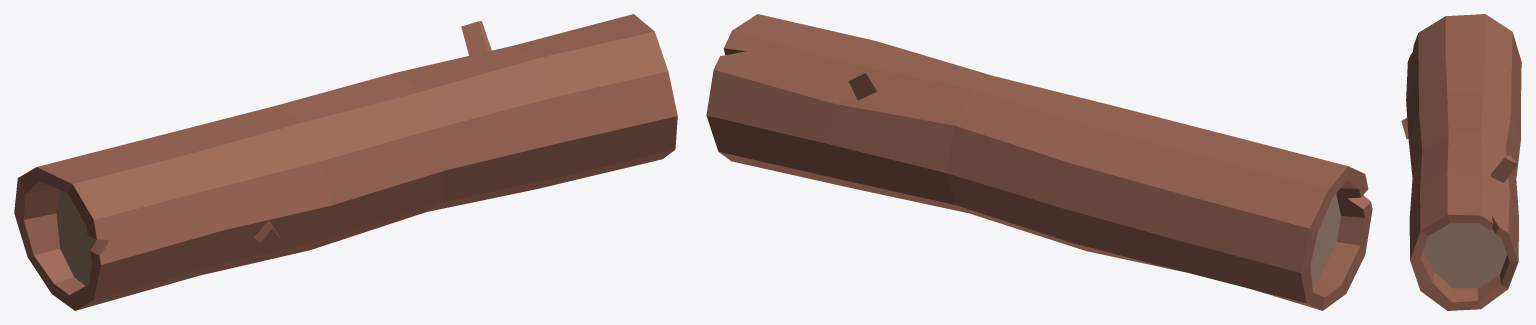
File: Log1.fbx
3 renders of one model, left to right at view 1: azimuth 30°, elevation 25°; view 2: azimuth 150°, elevation 25°; view 3: azimuth 270°, elevation 25°, orthographic. The views are drawn at different scales.
Visible parts, largest first — view 1: Cylinder, Cylinder.001; view 2: Cylinder, Cylinder.001; view 3: Cylinder, Cylinder.001.
Boxes of the visible parts, <box> form: Cylinder: <box>14,14,677,310</box>; Cylinder.001: <box>56,190,96,285</box>; Cylinder: <box>706,14,1372,310</box>; Cylinder.001: <box>1310,194,1340,284</box>; Cylinder: <box>1401,14,1521,310</box>; Cylinder.001: <box>1423,223,1506,288</box>.
Size of the model in its own units: 921 by 221 by 222.
